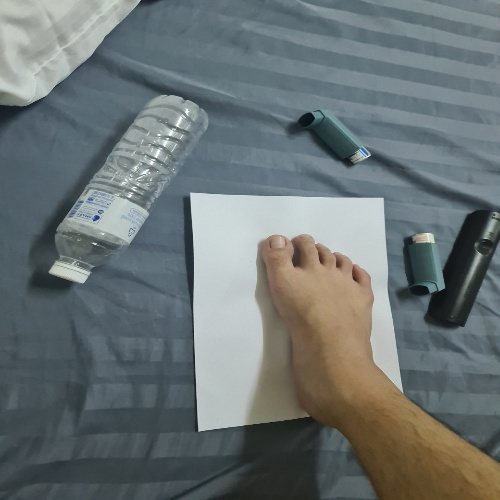Top_Foot: (164, 173, 425, 445)
